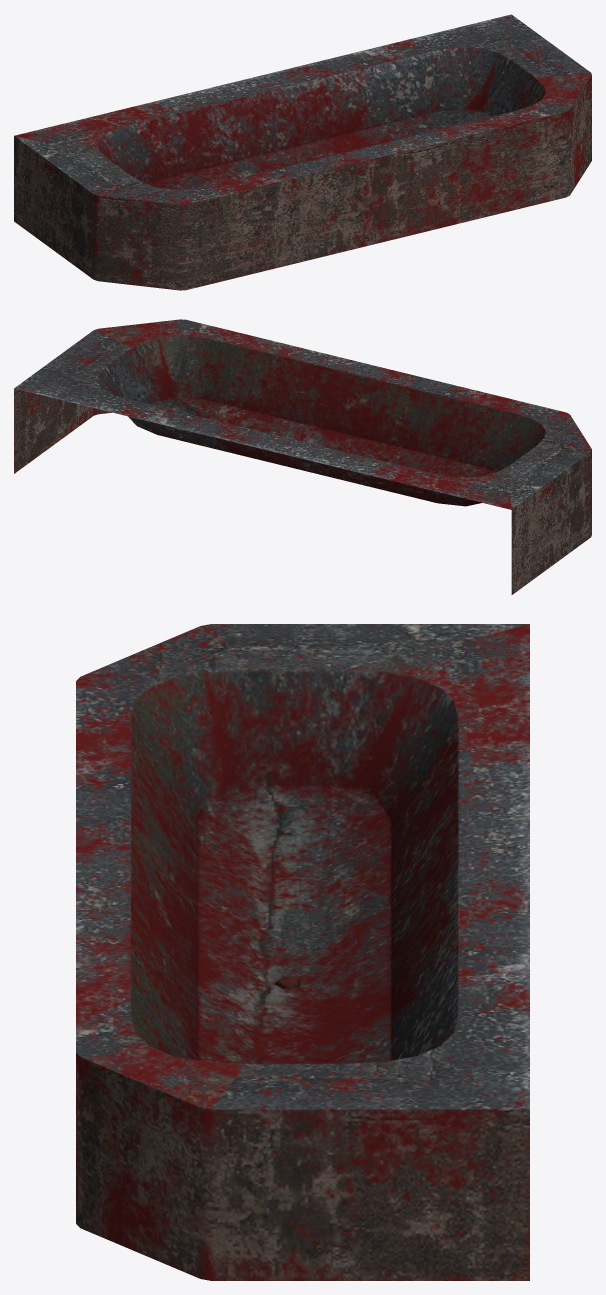
File: SlaughterTub.FBX
3 renders of one model, top to bottom at view 1: azimuth 30°, elevation 25°; view 2: azimuth 150°, elevation 25°; view 3: azimuth 270°, elevation 25°, orthographic. The views are drawn at different scales.
Parts seen in each view (by area): view 1: SlaughterTub; view 2: SlaughterTub; view 3: SlaughterTub.
Boxes of the visible parts, x1,y1,x2,y2 form: SlaughterTub: (14,14,591,290); SlaughterTub: (14,319,591,594); SlaughterTub: (76,624,529,1280).
Size of the model in its own units: 286 by 47.05 by 113.
